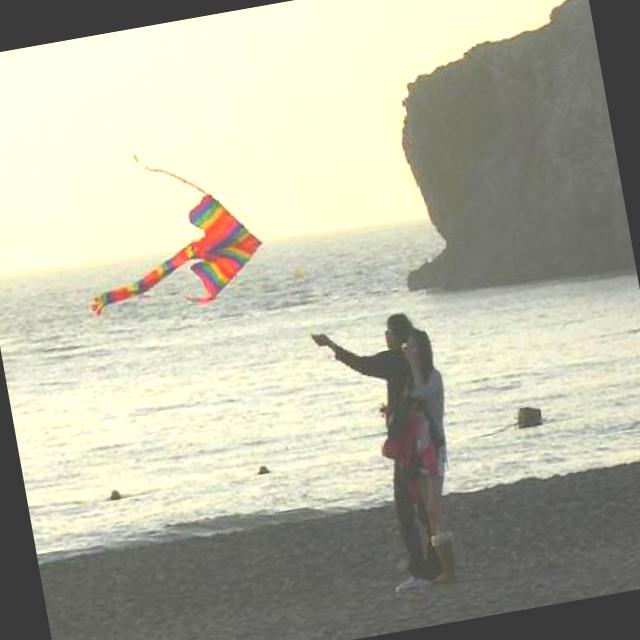Person: (308, 309, 456, 596), (358, 323, 474, 588)
